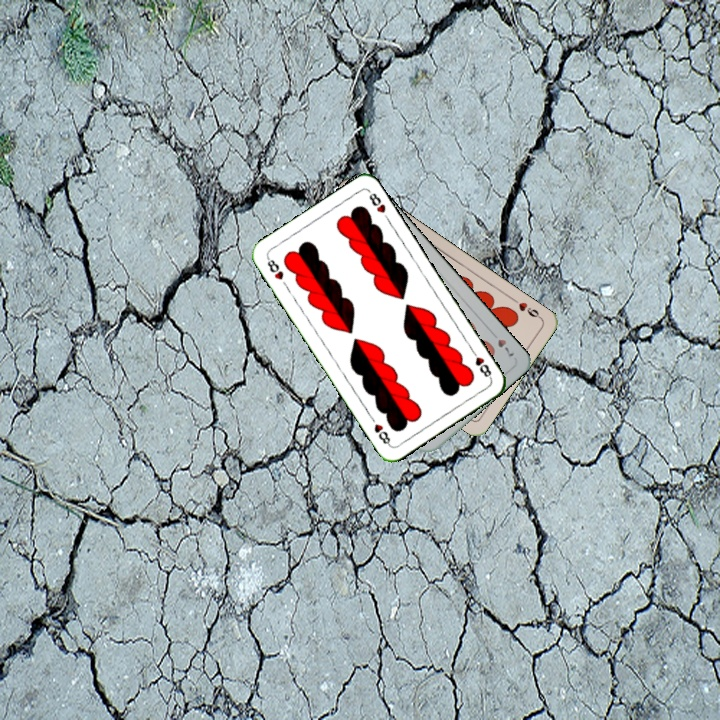H7: (487, 327, 517, 359)
H8: (467, 345, 495, 382), (263, 253, 286, 283)
H9: (508, 294, 544, 322)
